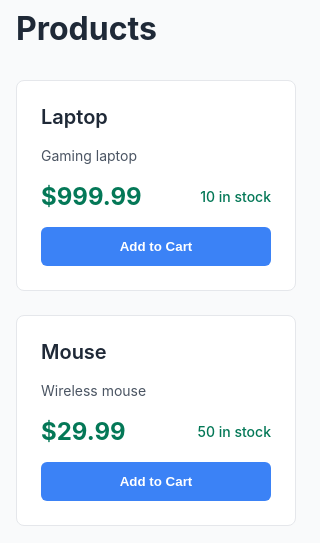
Test: Home Advanced Tests › Add to Cart Error Scenarios › shows error when add to cart fails with network timeout
Expected: the heading "Laptop" is shown, [41, 104, 108, 128]
Click the button "Add to Cart" below "999.99" at (156, 246), box [41, 226, 271, 266]
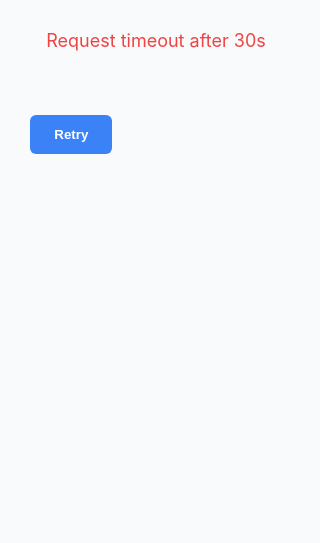
Now the text "Request timeout after 30s" is shown, box [46, 30, 266, 51]
